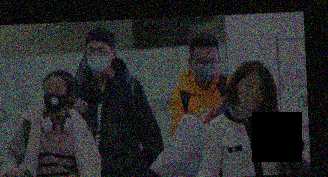with_mask: (84, 42, 111, 75), (41, 82, 68, 113), (190, 54, 219, 82)
without_mask: (234, 76, 265, 112)
